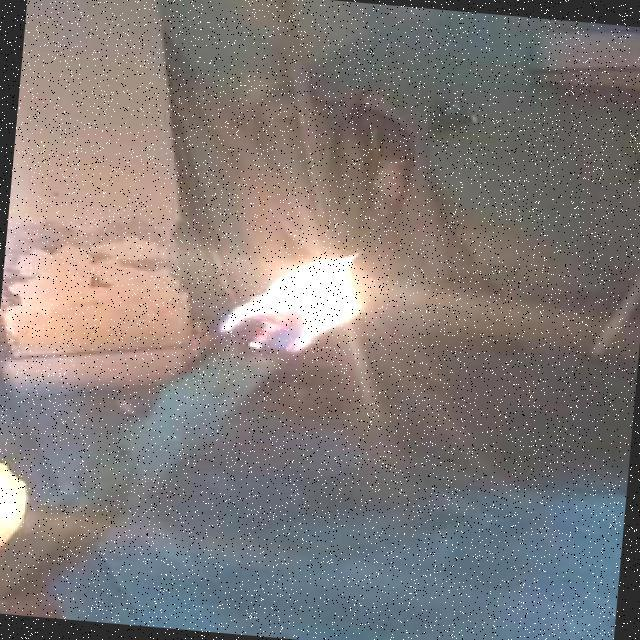Fire: (197, 230, 421, 370)
